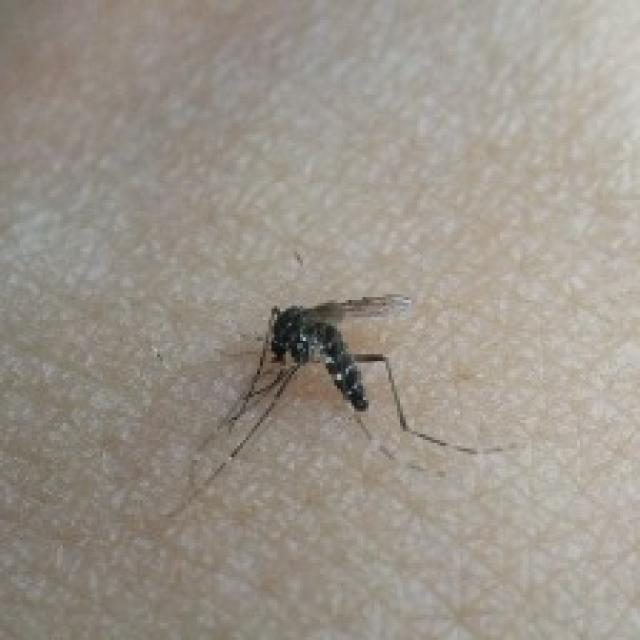aedes: (163, 286, 503, 520)
